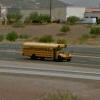Bus: (20, 38, 73, 63)
